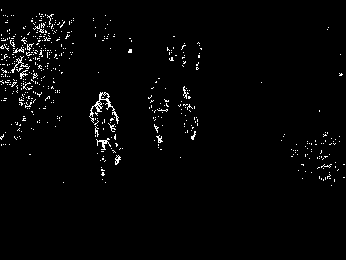person: (88, 92, 121, 179), (147, 76, 170, 152), (178, 84, 200, 147)
